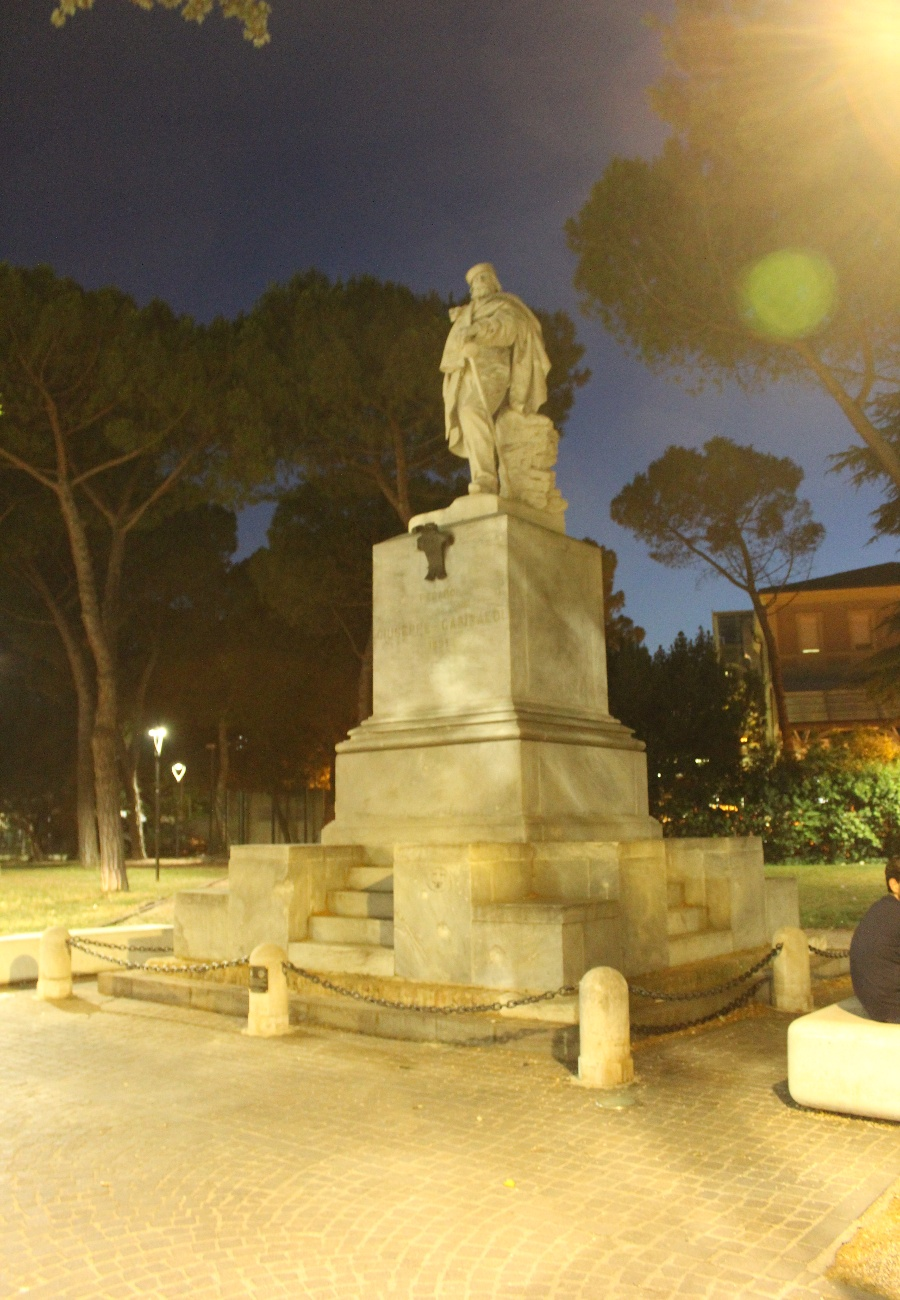Giuseppe Garibaldi: (404, 256, 572, 539)
